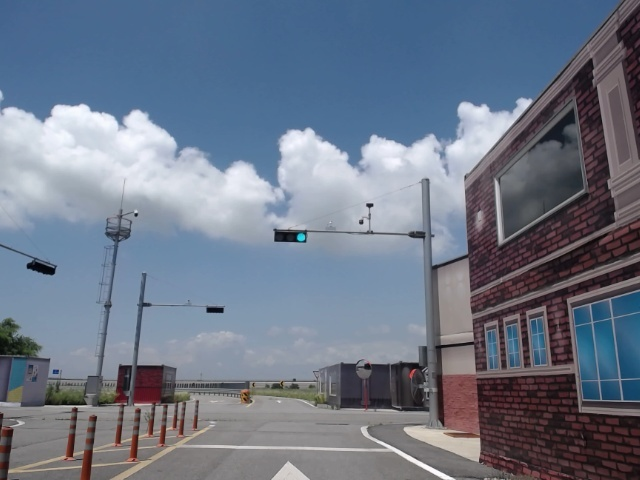green_3: (276, 231, 306, 241)
